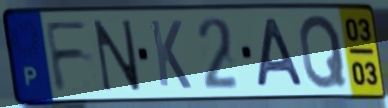2: (196, 15, 240, 92)
A: (255, 15, 308, 89)
F: (42, 18, 92, 95)
K: (147, 17, 194, 92)
N: (91, 18, 143, 94)
Q: (297, 12, 350, 91)
